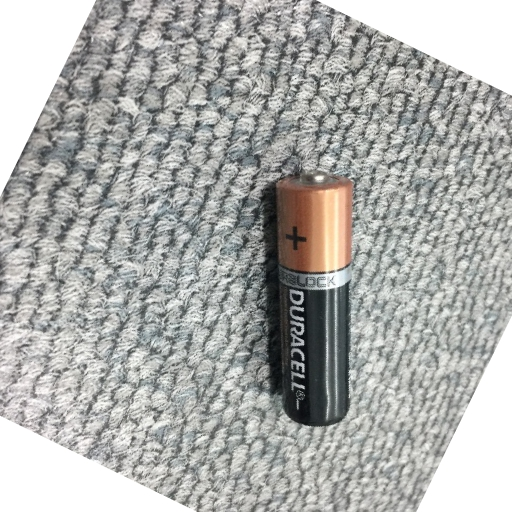Battery_0: (266, 166, 362, 435)
